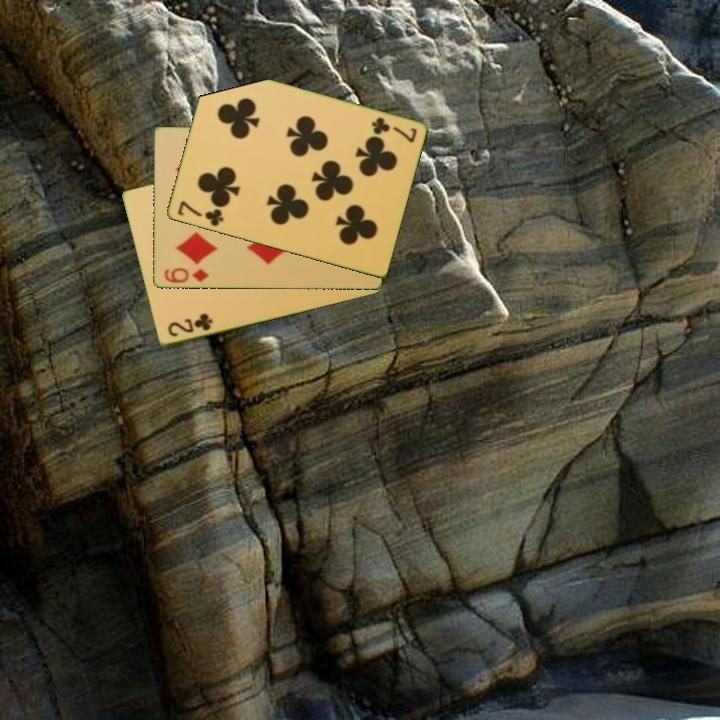2c: (164, 310, 216, 340)
6d: (160, 264, 211, 286)
7c: (174, 197, 226, 229), (368, 114, 419, 146)
